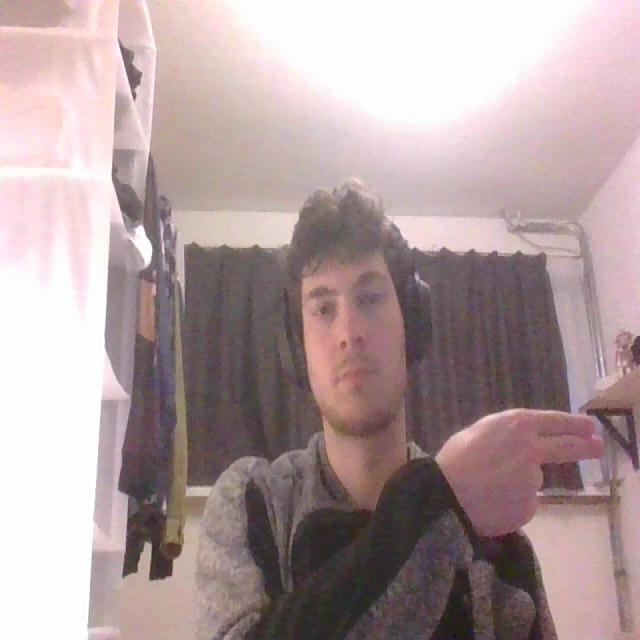right: (424, 404, 604, 550)
